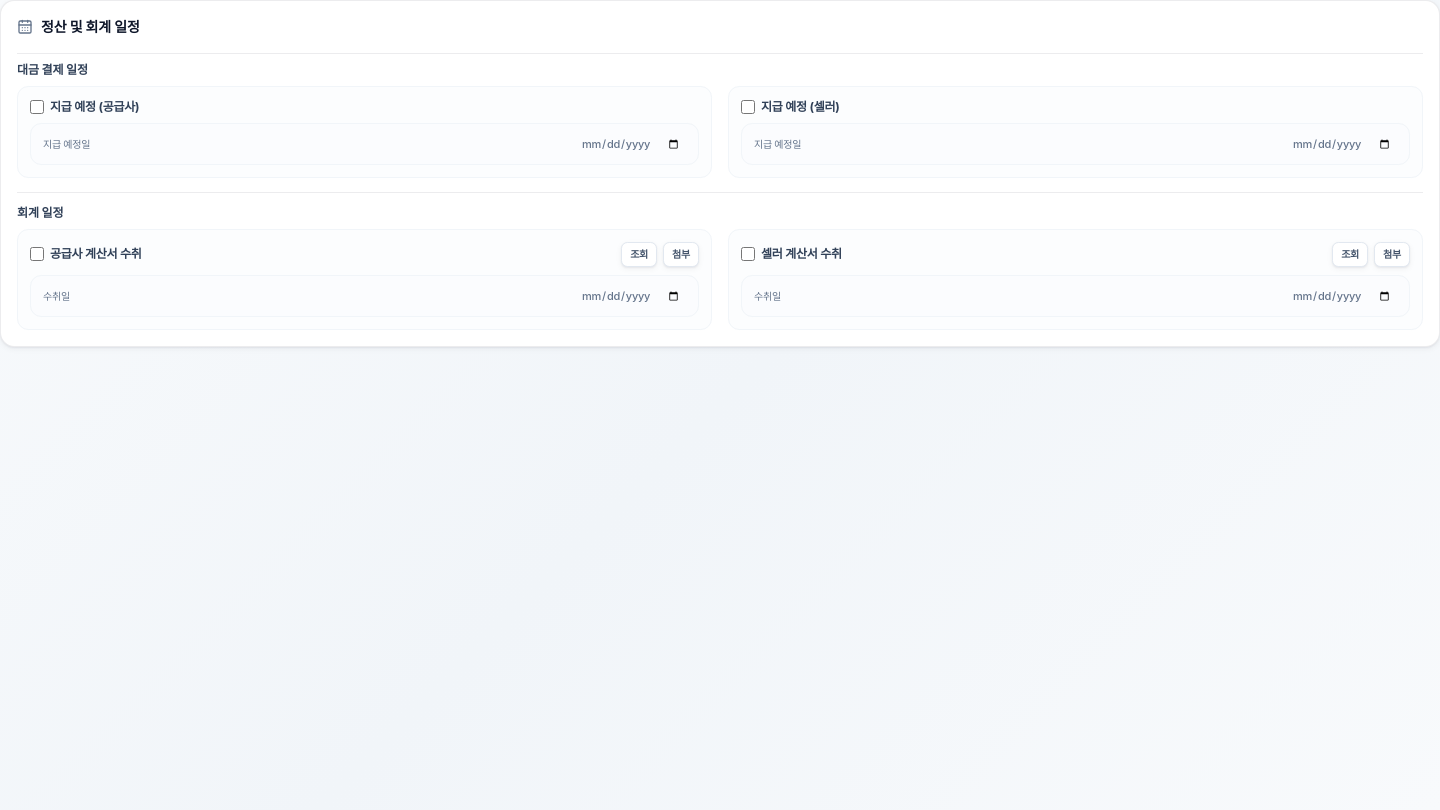
SettlementSection — 수취 판정 배지 › 기대 건인데 메일을 못 본 경우 「메일 미발견」이 뜬다 — 「미수취」라고 단정하지 않는다
Click the button "조회" at (639, 254), box [621,242,657,267]
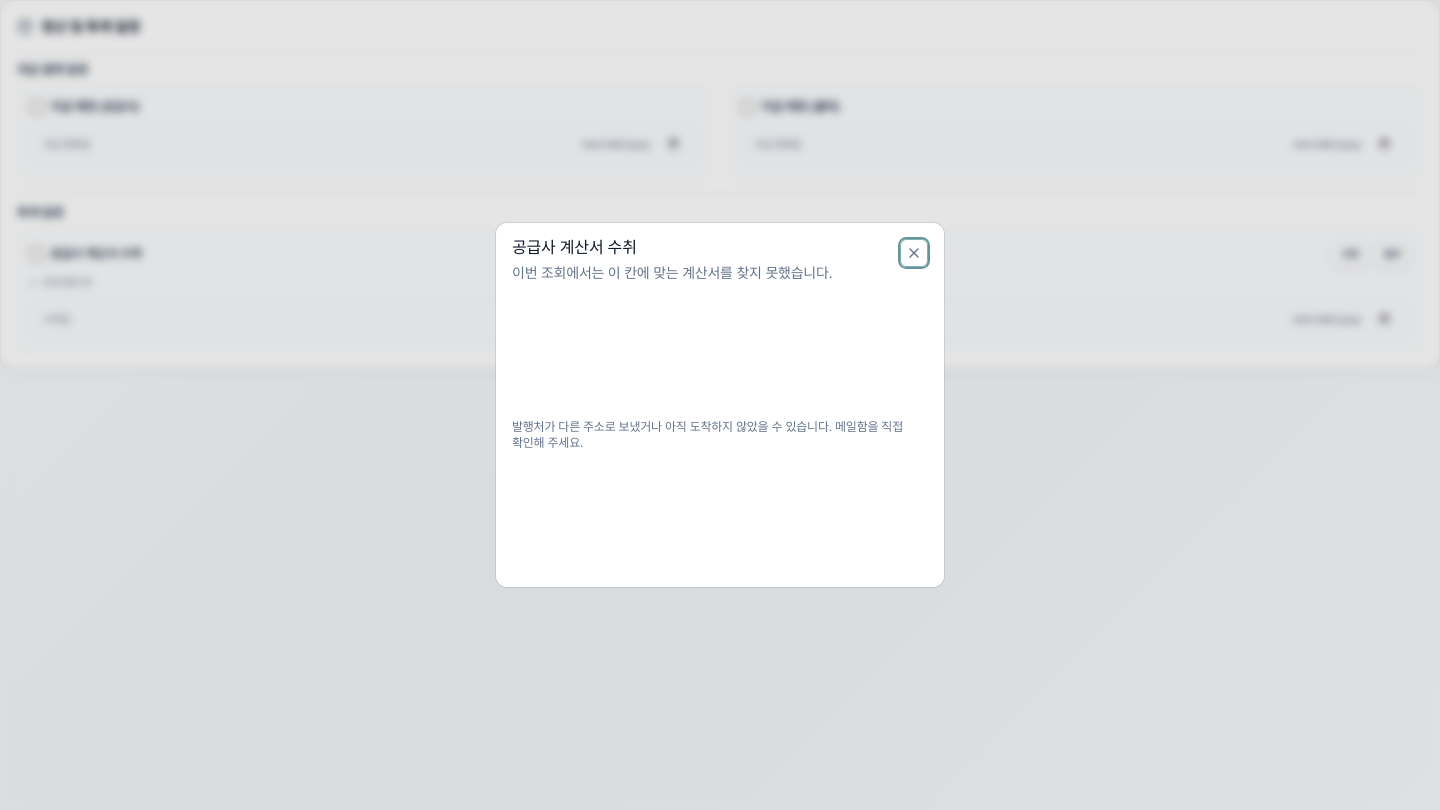
expect the text "메일 미발견" is shown: met, box [753,275,800,290]
